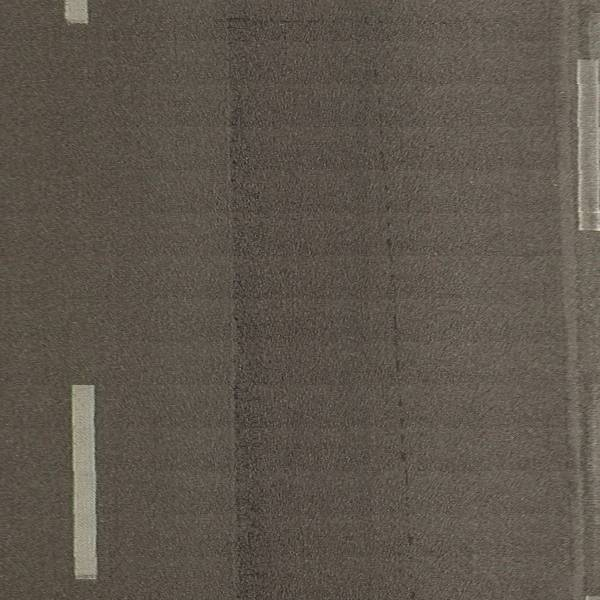road_damage: (237, 309, 275, 574)
